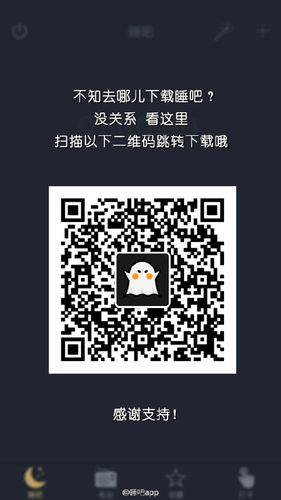QRCode: (58, 193, 232, 367)
